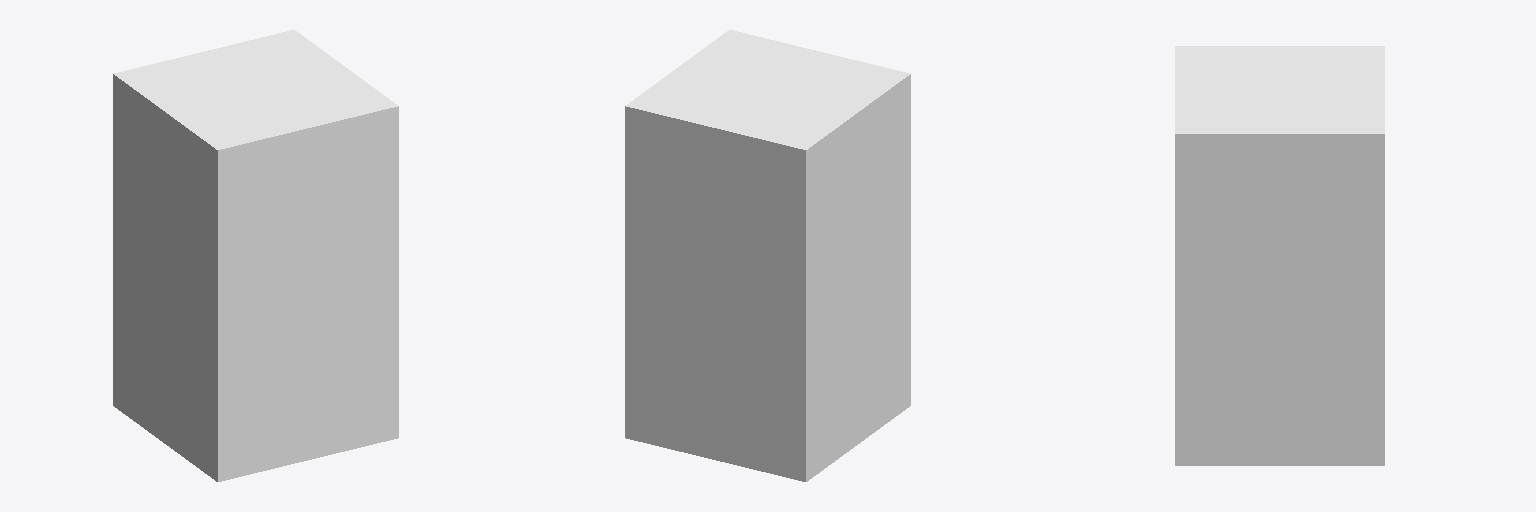
File: ZIBU_Original_Animation_Ready-2.obj
The picture shows the model from 3 angles: view 1: azimuth 30°, elevation 25°; view 2: azimuth 150°, elevation 25°; view 3: azimuth 270°, elevation 25°; orthographic projection.
Visible parts, largest first — view 1: object 1; view 2: object 1; view 3: object 1.
Part boxes in pixels (left/top/right/bottom): object 1: left=113, top=30, right=398, bottom=481; object 1: left=625, top=30, right=910, bottom=481; object 1: left=1175, top=46, right=1384, bottom=465.
Bounding box in the file's own units: 0.4 × 0.7 × 0.4.